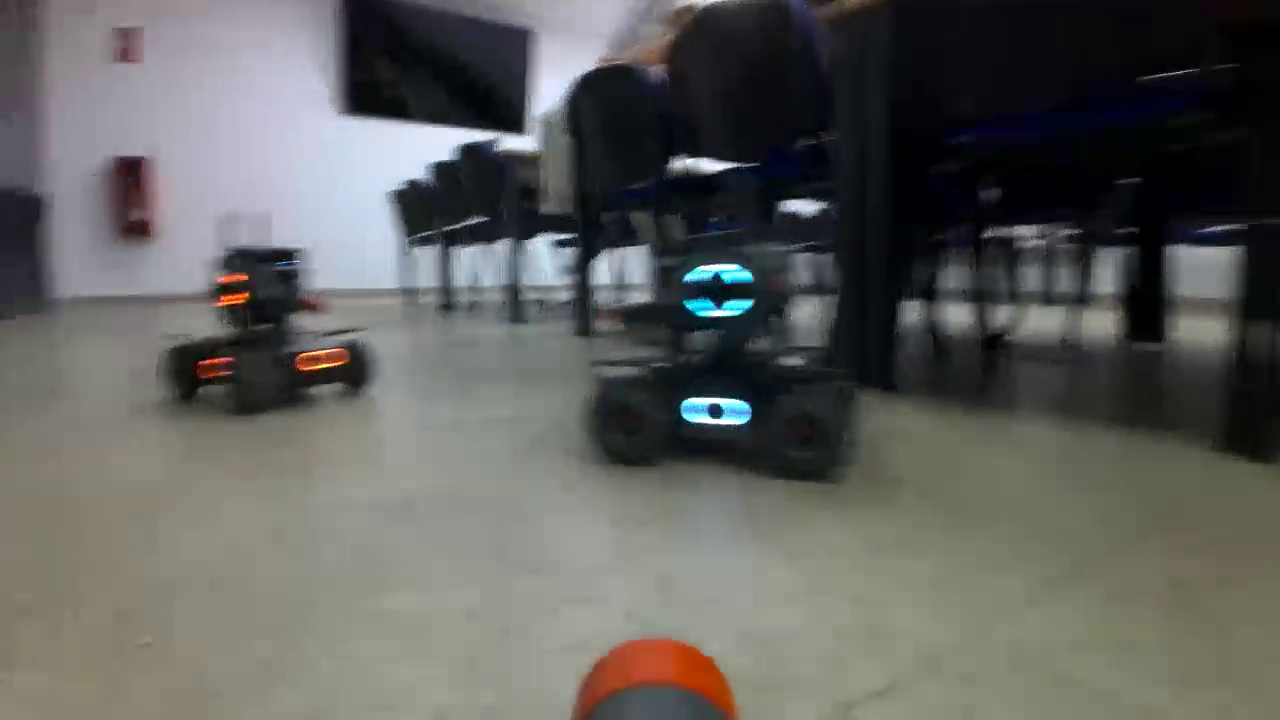robot: (590, 227, 856, 482), (164, 246, 374, 415)
